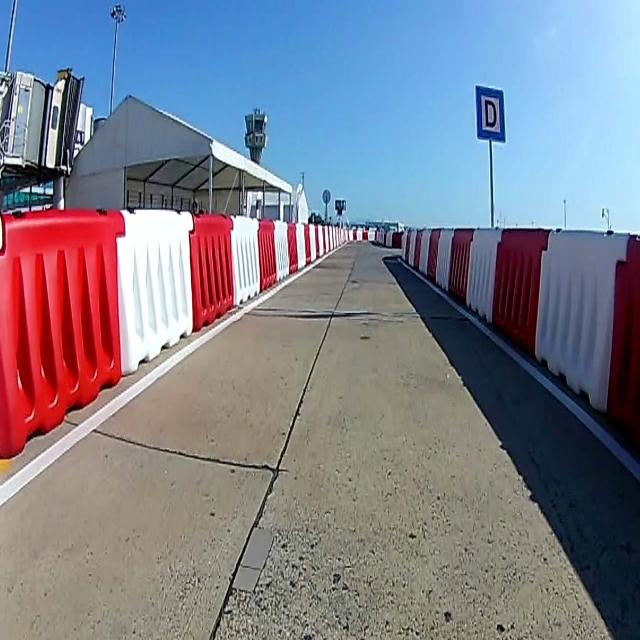durak: (474, 84, 504, 140)
